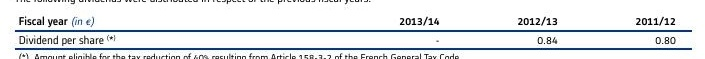table: (0, 0, 705, 59)
